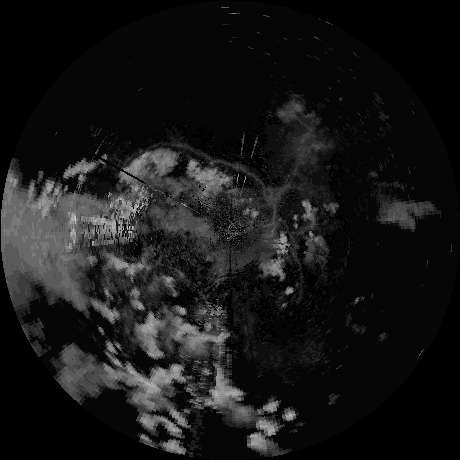frontgust: (216, 159, 274, 218), (286, 231, 305, 303), (154, 140, 214, 161)
